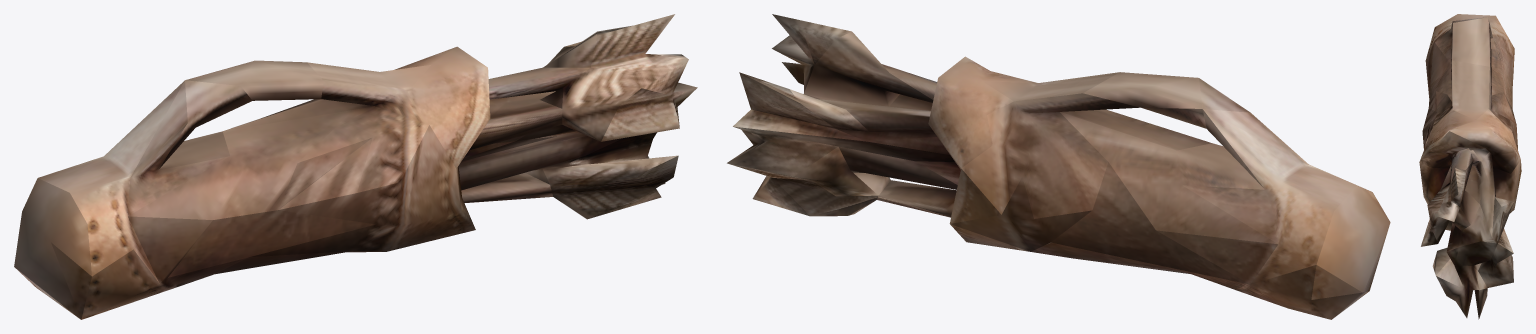
The model's file is Quiver.glb.
3 views of the same model, side by side, from view 1: azimuth 30°, elevation 25°; view 2: azimuth 150°, elevation 25°; view 3: azimuth 270°, elevation 25° (orthographic). The views are drawn at different scales.
Parts seen in each view (by area): view 1: Quiver; view 2: Quiver; view 3: Quiver.
Boxes of the visible parts, x1,y1,x2,y2 form: Quiver: (14, 14, 697, 319); Quiver: (727, 14, 1390, 319); Quiver: (1419, 14, 1521, 319).
Size of the model in its own units: 1 by 0.333 by 0.2022.
Materials: 1 (1 with a texture image).
